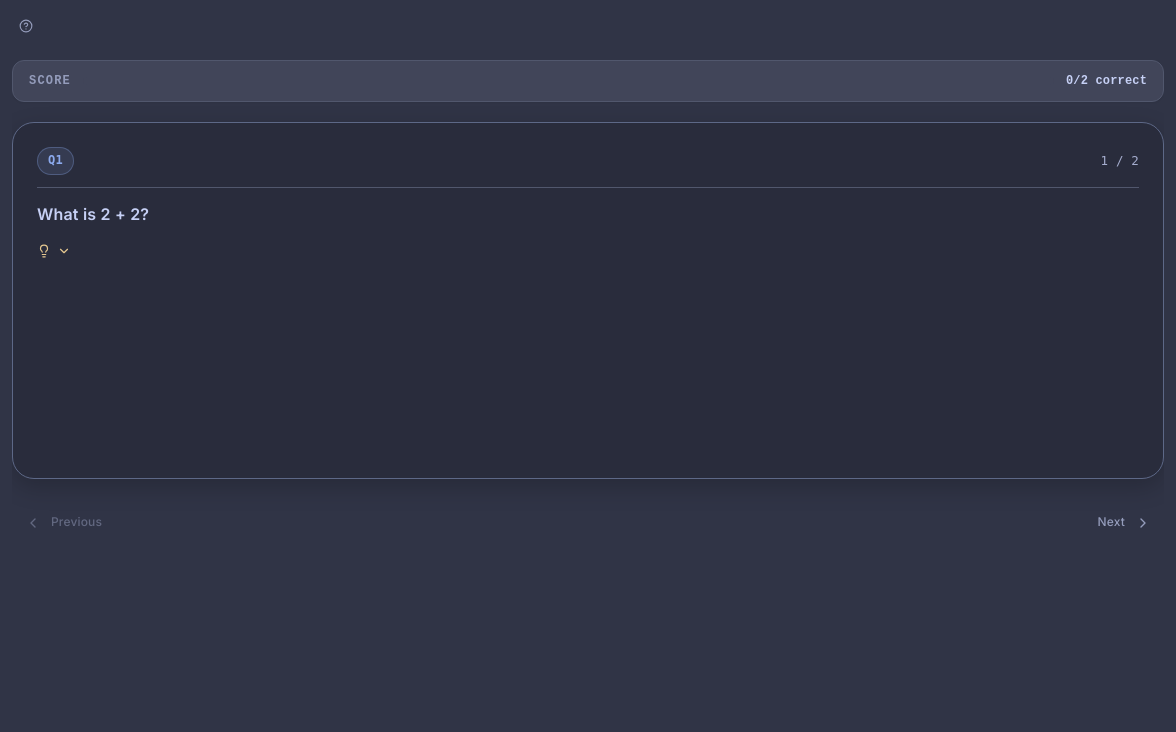
it: Quiz Section › navigates to second question
Expected: the heading with test id "quiz-question-text-0" reads "What is 2 + 2?", [37,202,149,228]
Click the button with test id "quiz-next-btn".
click(1124, 522)  # box [1084,506,1164,538]
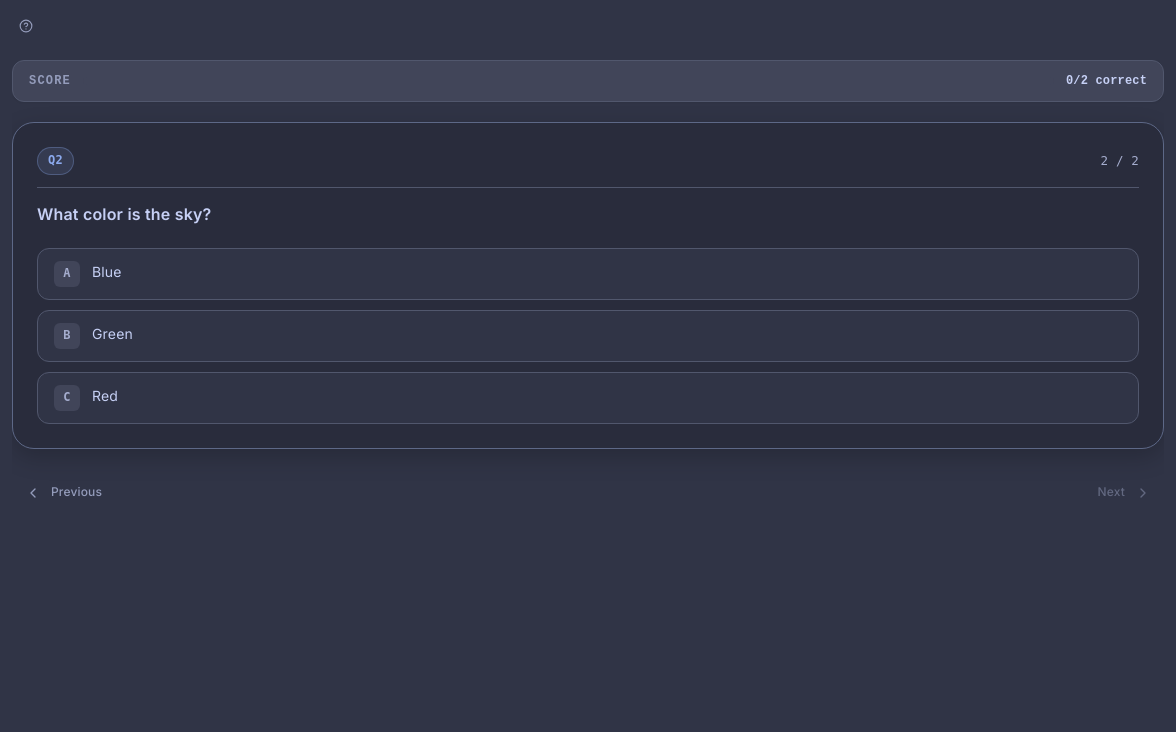
Expected: the element with test id "quiz-question-q2" is shown, [12,122,1164,448]
Expected: the heading with test id "quiz-question-text-1" reads "What color is the sky?", [37,202,212,228]
